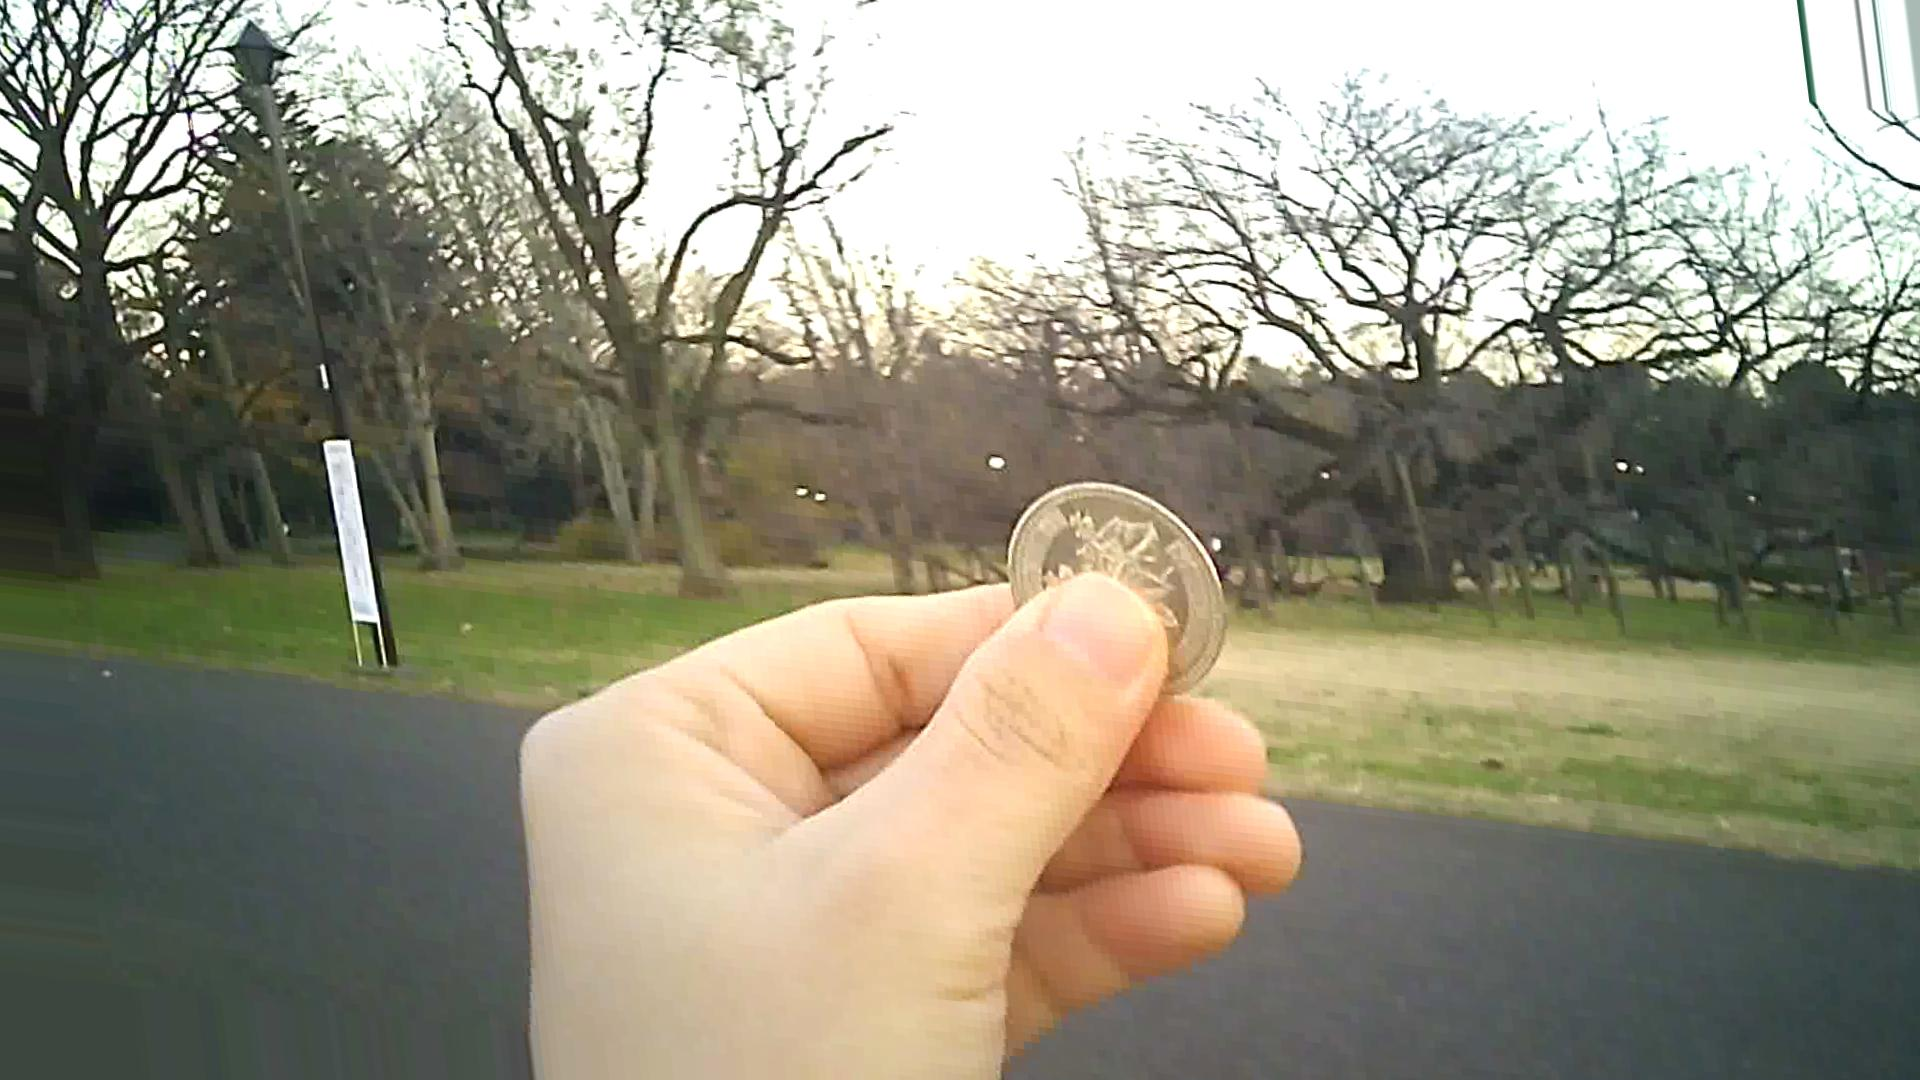500 Yen: (982, 483, 1234, 696)
